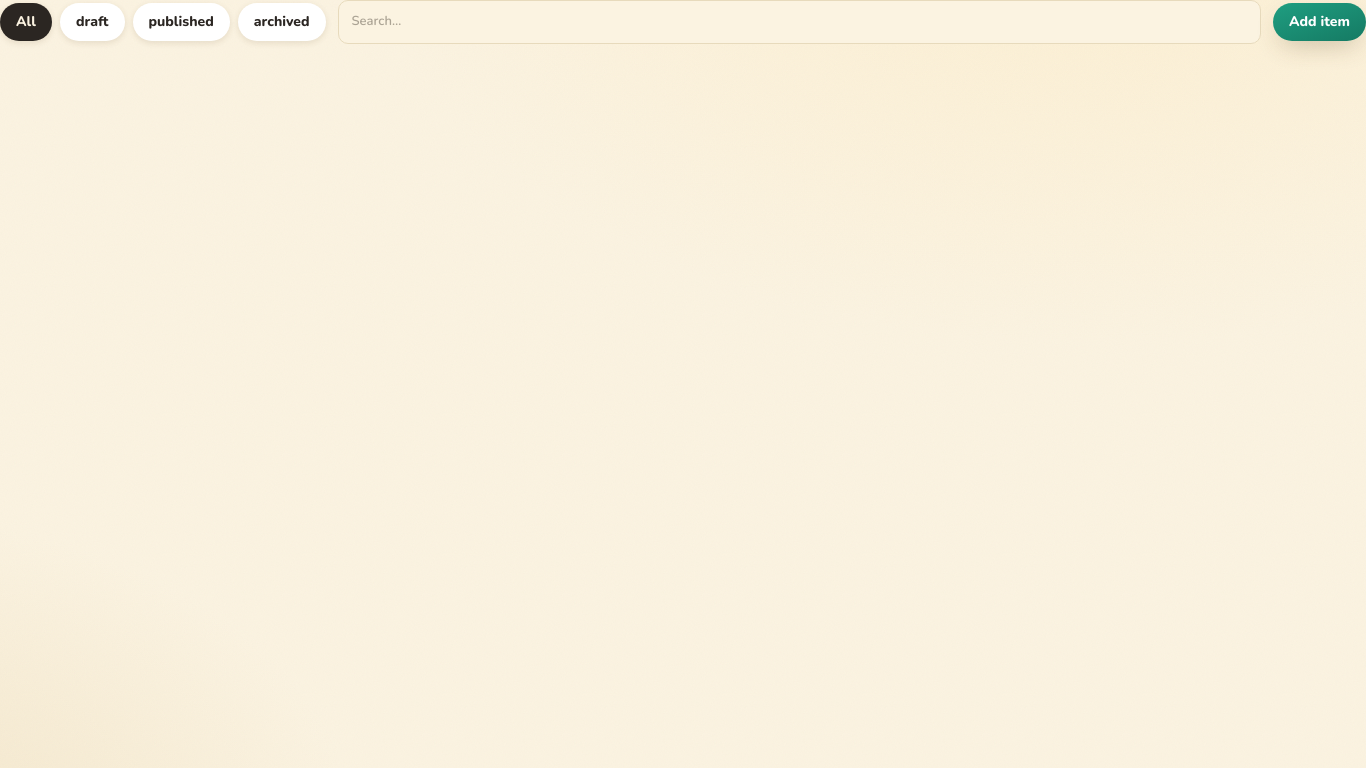
Scenario: AdminNewsScreen › shows server validation field errors inline
The width and height of the screenshot is (1366, 768).
Click the button "Add item": (1320, 22) [1273,3,1365,41]
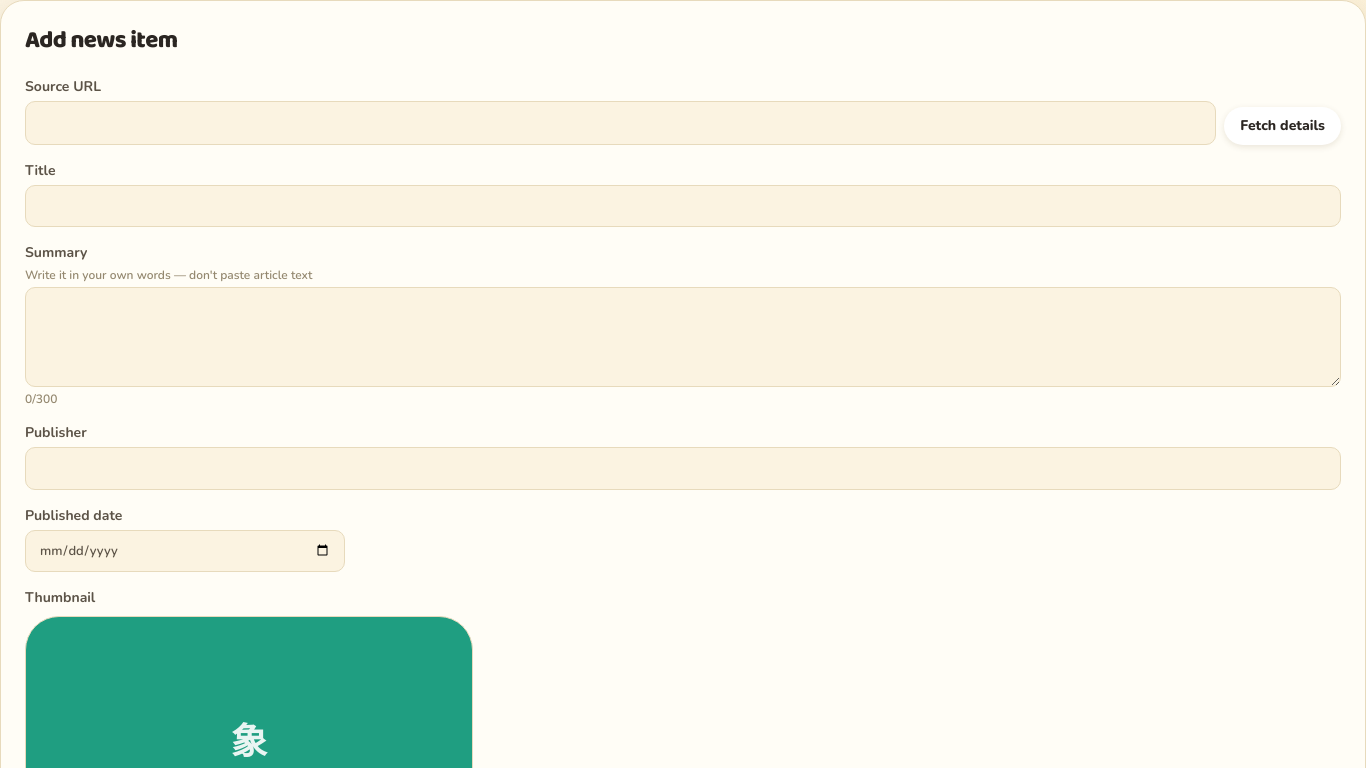
In the field labelled "Source URL": (621, 123) [25,101,1216,144], type "https://example.com/x"
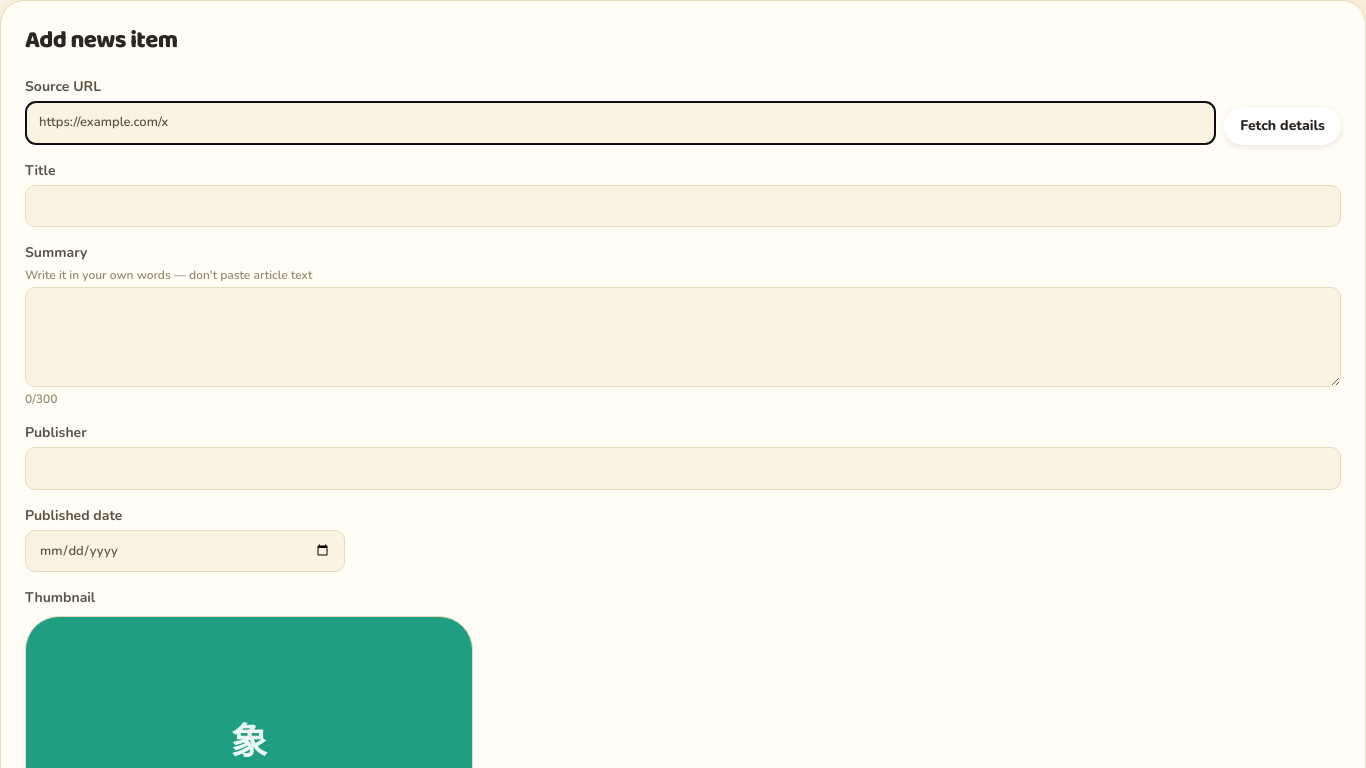
In the field labelled "Title": (683, 206) [25,184,1341,227], type "Valid title here"
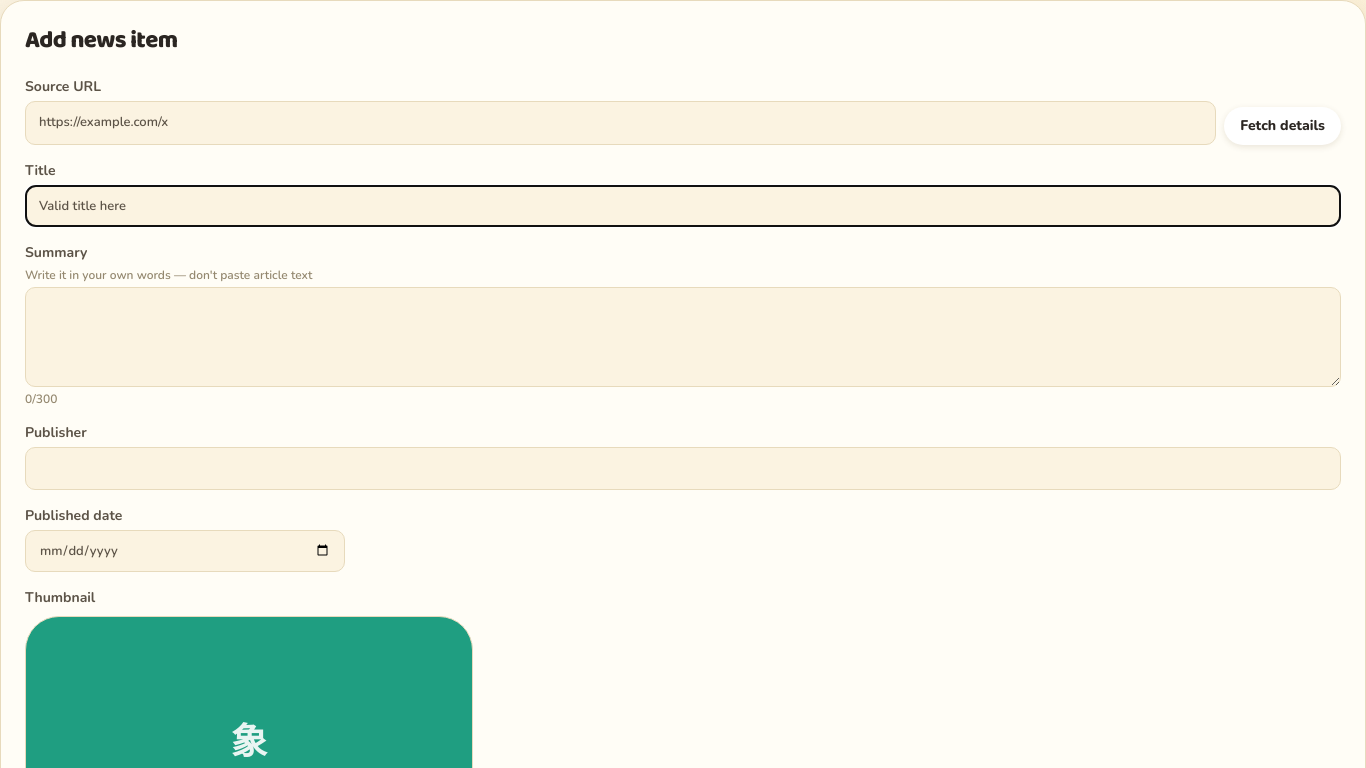
In the text box labelled "Summary": (683, 337) [25,287,1341,387], type "Valid summary written in our own words for publish."
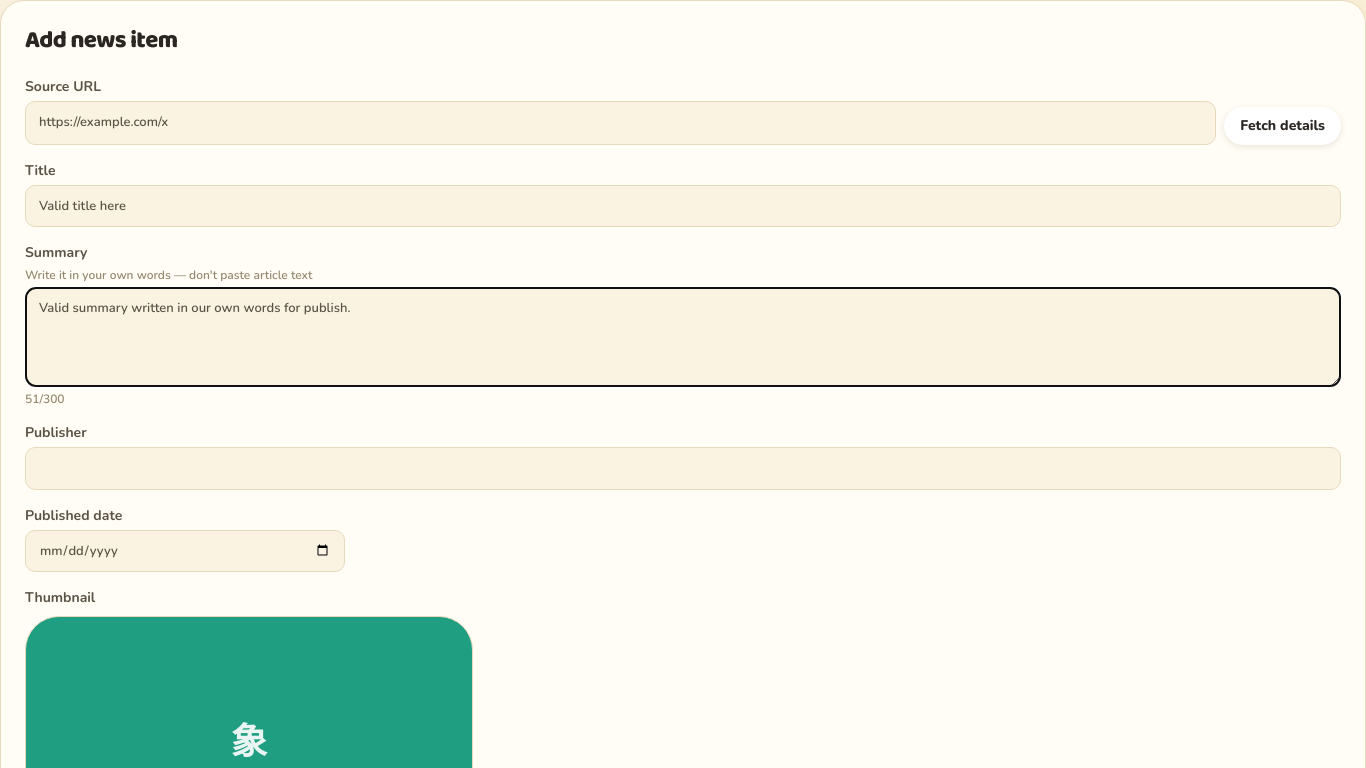
In the field labelled "Publisher": (683, 468) [25,447,1341,490], type "Pub"
(page scrolled)
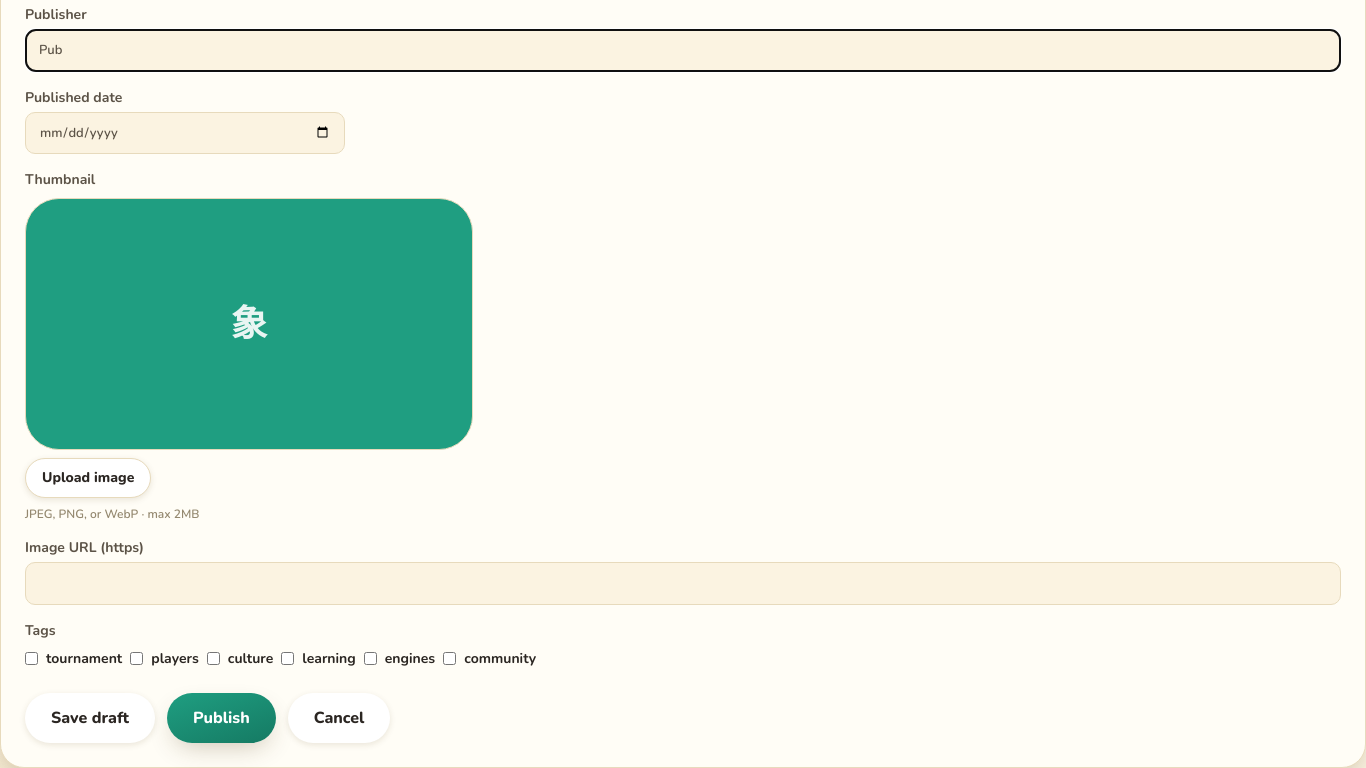
Click the button "Publish": (221, 718) [167,693,276,743]
(page scrolled)
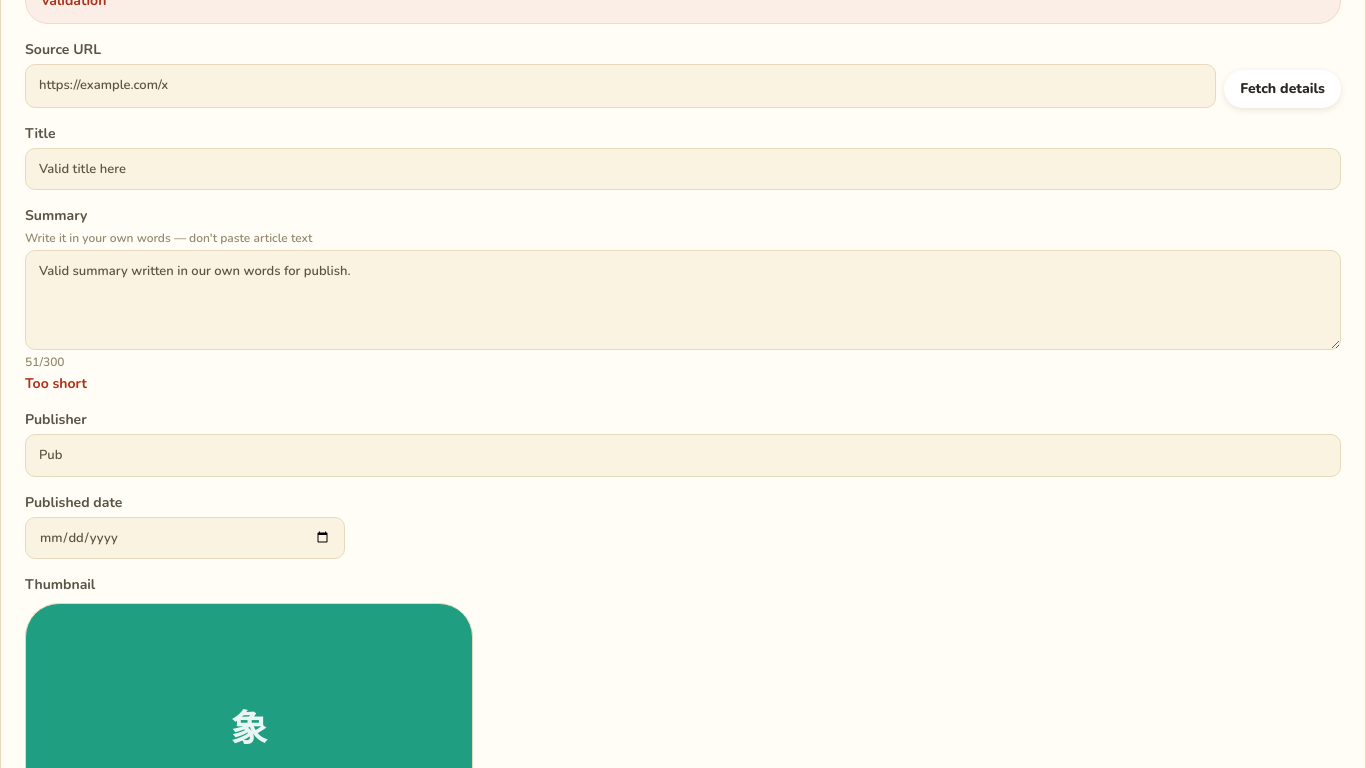
Check: the text "Too short" is shown, box [25,374,87,393]
